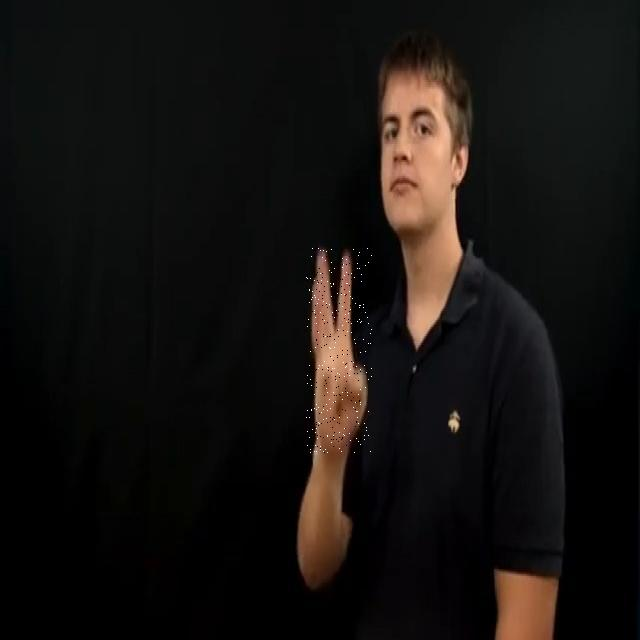water: (306, 248, 372, 453)
